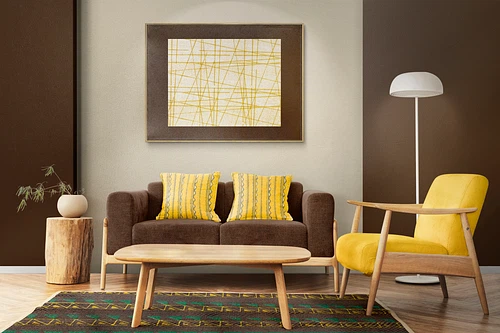chair: (333, 172, 492, 317)
floor lamp: (388, 71, 445, 288)
side table: (42, 215, 94, 287)
sofa: (98, 172, 340, 296)
table: (113, 242, 312, 330)
wall art: (142, 21, 307, 144)
